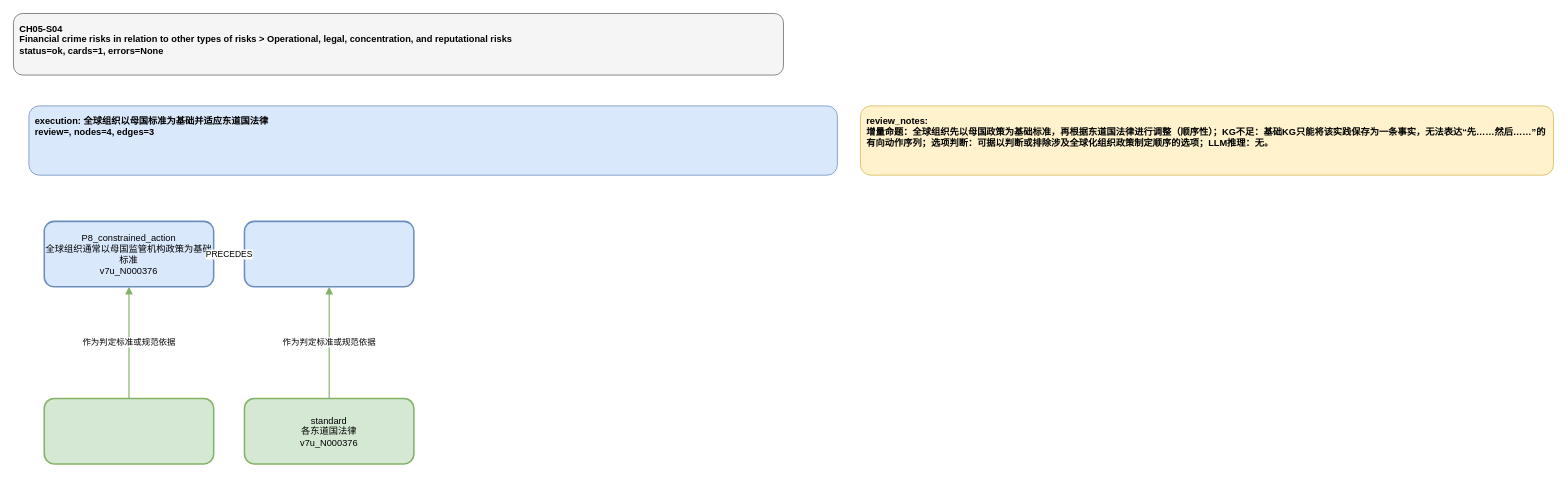
Some shapes in this 1567 by 478 pixel diagram are drawn without their labels. The box of each missing label's shape, as (x1, y1, x2, y2) in pixels:
P8_constrained_action 全球组织然后根据各东道国法律进行调整 v7u_N000376: (243, 220, 414, 287)
standard 母国监管机构政策 v7u_N000376: (43, 397, 214, 464)
